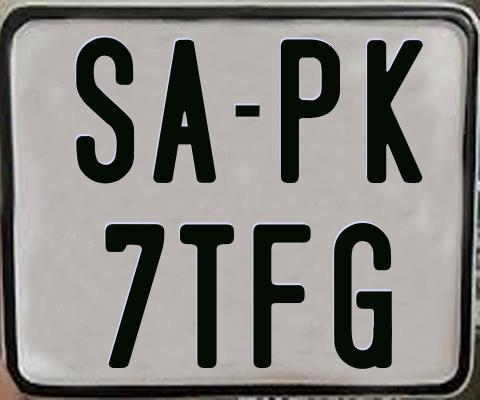7: (102, 222, 166, 368)
A: (152, 37, 215, 180)
F: (253, 221, 313, 367)
G: (334, 223, 393, 369)
K: (365, 37, 427, 183)
P: (278, 37, 337, 183)
S: (73, 35, 131, 182)
T: (179, 221, 239, 368)
